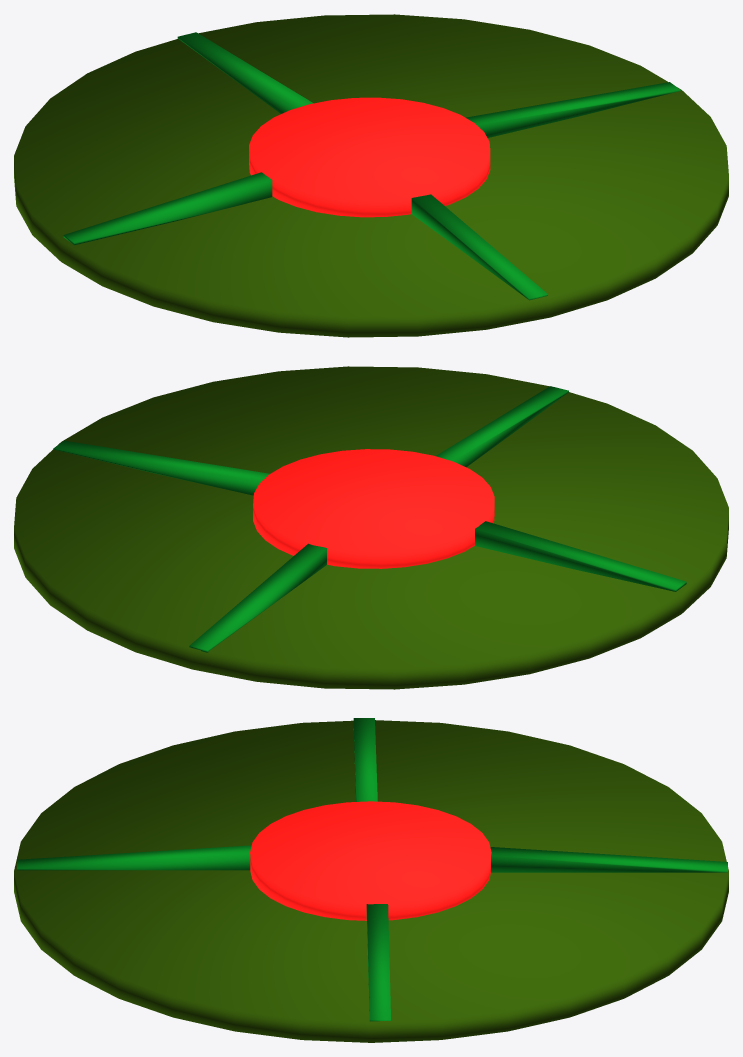
Rendered from landmine.fbx.
3 renders of one model, top to bottom at view 1: azimuth 30°, elevation 25°; view 2: azimuth 150°, elevation 25°; view 3: azimuth 270°, elevation 25°, orthographic.
Visible parts, largest first — view 1: Cylinder, Cylinder.001, Cube.003, Cube, Cube.001, Cube.002; view 2: Cylinder, Cylinder.001, Cube.003, Cube, Cube.002, Cube.001; view 3: Cylinder, Cylinder.001, Cube.002, Cube.001, Cube, Cube.003.
Boxes of the visible parts, box(x1,y1,x2,y2) form: Cylinder: box(14, 14, 728, 337); Cylinder.001: box(249, 97, 490, 217); Cube.003: box(63, 172, 272, 245); Cube: box(466, 82, 680, 137); Cube.001: box(411, 194, 547, 300); Cube.002: box(177, 32, 313, 113); Cylinder: box(14, 366, 728, 689); Cylinder.001: box(253, 449, 494, 568); Cube.003: box(475, 521, 686, 591); Cube: box(53, 440, 269, 495); Cube.002: box(189, 543, 326, 652); Cube.001: box(435, 386, 568, 467); Cylinder: box(14, 720, 728, 1042); Cylinder.001: box(250, 801, 491, 920); Cube.002: box(490, 847, 727, 872); Cube.001: box(17, 845, 251, 870); Cube: box(366, 904, 390, 1021); Cube.003: box(353, 718, 377, 801).
Size of the model in its own units: 174 by 10.34 by 174.
